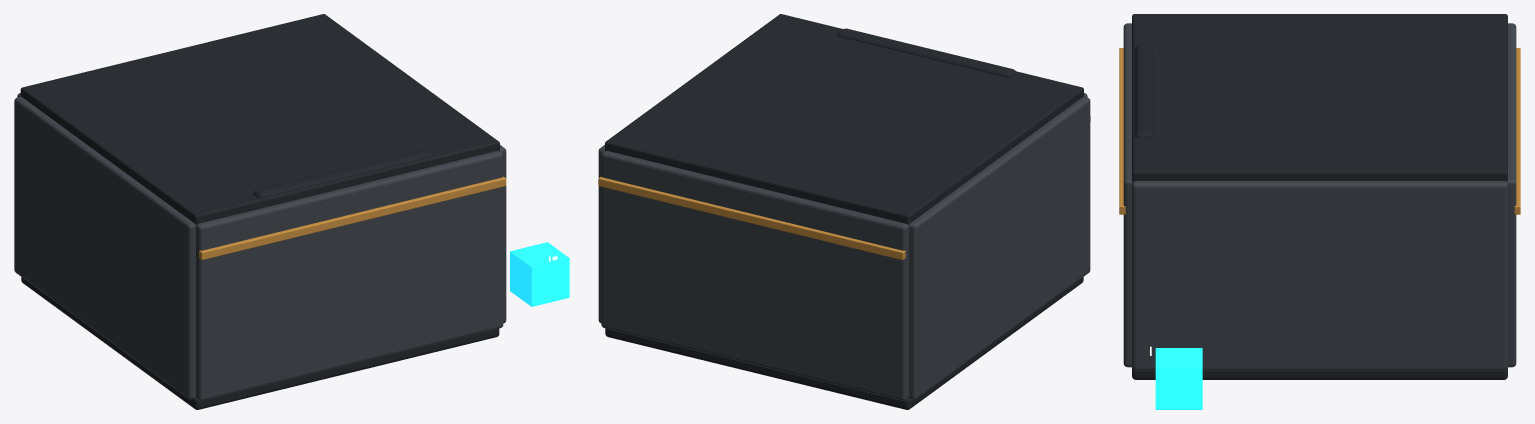
Rendered from BHC_ENV_MODULAR_KIT.glb.
The picture shows the model from 3 angles, left to right: view 1: azimuth 30°, elevation 25°; view 2: azimuth 150°, elevation 25°; view 3: azimuth 270°, elevation 25°; orthographic projection. The views are drawn at different scales.
Parts seen in each view (by area): view 1: SM_BHC_Ceiling_Panel, SM_BHC_Wall_8m, SM_BHC_Wall_8m.002, SM_BHC_Floor_8m, SM_BHC_Reference_1m, SM_BHC_Wall_Trim, SM_BHC_Entrance_Portal, SM_BHC_Wall_8m.003; view 2: SM_BHC_Ceiling_Panel, SM_BHC_Wall_8m.001, SM_BHC_Wall_8m.002, SM_BHC_Floor_8m, SM_BHC_Wall_Trim.001, SM_BHC_Entrance_Portal, SM_BHC_Wall_8m.003; view 3: SM_BHC_Wall_8m.003, SM_BHC_Ceiling_Panel, SM_BHC_Floor_8m, SM_BHC_Wall_8m, SM_BHC_Wall_8m.001, SM_BHC_Reference_1m, SM_BHC_Entrance_Portal, SM_BHC_Wall_Trim, SM_BHC_Wall_Trim.001.
Part boxes in pixels (x1=…): SM_BHC_Ceiling_Panel: x1=20, y1=14, x2=499, y2=225; SM_BHC_Wall_8m: x1=196, y1=150, x2=503, y2=400; SM_BHC_Wall_8m.002: x1=14, y1=96, x2=196, y2=399; SM_BHC_Floor_8m: x1=21, y1=277, x2=499, y2=409; SM_BHC_Reference_1m: x1=510, y1=242, x2=569, y2=306; SM_BHC_Wall_Trim: x1=199, y1=176, x2=506, y2=260; SM_BHC_Entrance_Portal: x1=253, y1=149, x2=432, y2=198; SM_BHC_Wall_8m.003: x1=500, y1=145, x2=506, y2=323; SM_BHC_Ceiling_Panel: x1=605, y1=14, x2=1083, y2=225; SM_BHC_Wall_8m.001: x1=601, y1=150, x2=908, y2=400; SM_BHC_Wall_8m.002: x1=908, y1=96, x2=1090, y2=399; SM_BHC_Floor_8m: x1=605, y1=277, x2=1083, y2=409; SM_BHC_Wall_Trim.001: x1=598, y1=176, x2=905, y2=260; SM_BHC_Entrance_Portal: x1=837, y1=28, x2=1016, y2=77; SM_BHC_Wall_8m.003: x1=598, y1=145, x2=604, y2=322; SM_BHC_Wall_8m.003: x1=1132, y1=181, x2=1507, y2=370; SM_BHC_Ceiling_Panel: x1=1132, y1=14, x2=1507, y2=181; SM_BHC_Floor_8m: x1=1132, y1=368, x2=1507, y2=379; SM_BHC_Wall_8m: x1=1123, y1=23, x2=1132, y2=367; SM_BHC_Wall_8m.001: x1=1507, y1=23, x2=1516, y2=367; SM_BHC_Reference_1m: x1=1155, y1=348, x2=1202, y2=409; SM_BHC_Entrance_Portal: x1=1134, y1=45, x2=1152, y2=138; SM_BHC_Wall_Trim: x1=1119, y1=48, x2=1125, y2=214; SM_BHC_Wall_Trim.001: x1=1514, y1=48, x2=1520, y2=214.
Size of the model in its own units: 10.28 by 5 by 8.54.
